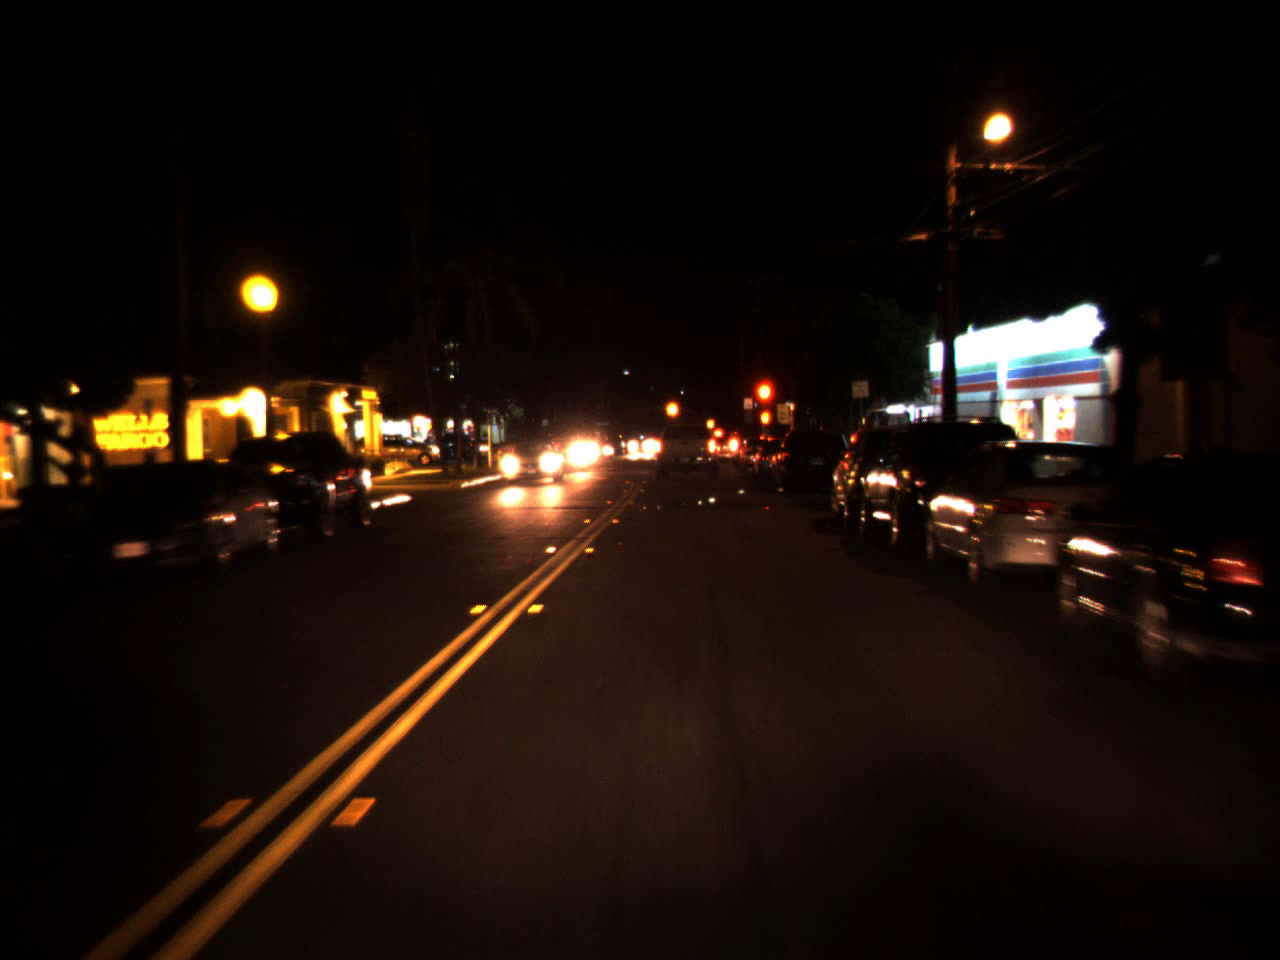stop: (750, 374, 778, 438)
warning: (662, 389, 681, 429), (705, 414, 715, 431)
